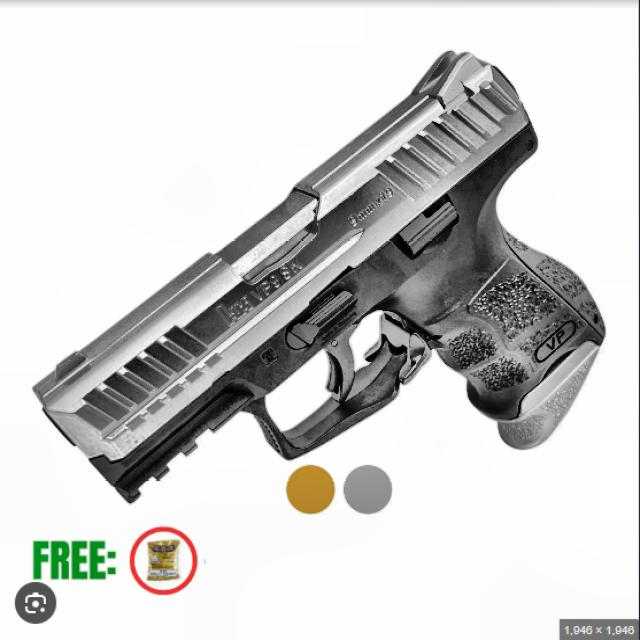HKVP9: (31, 48, 607, 503)
